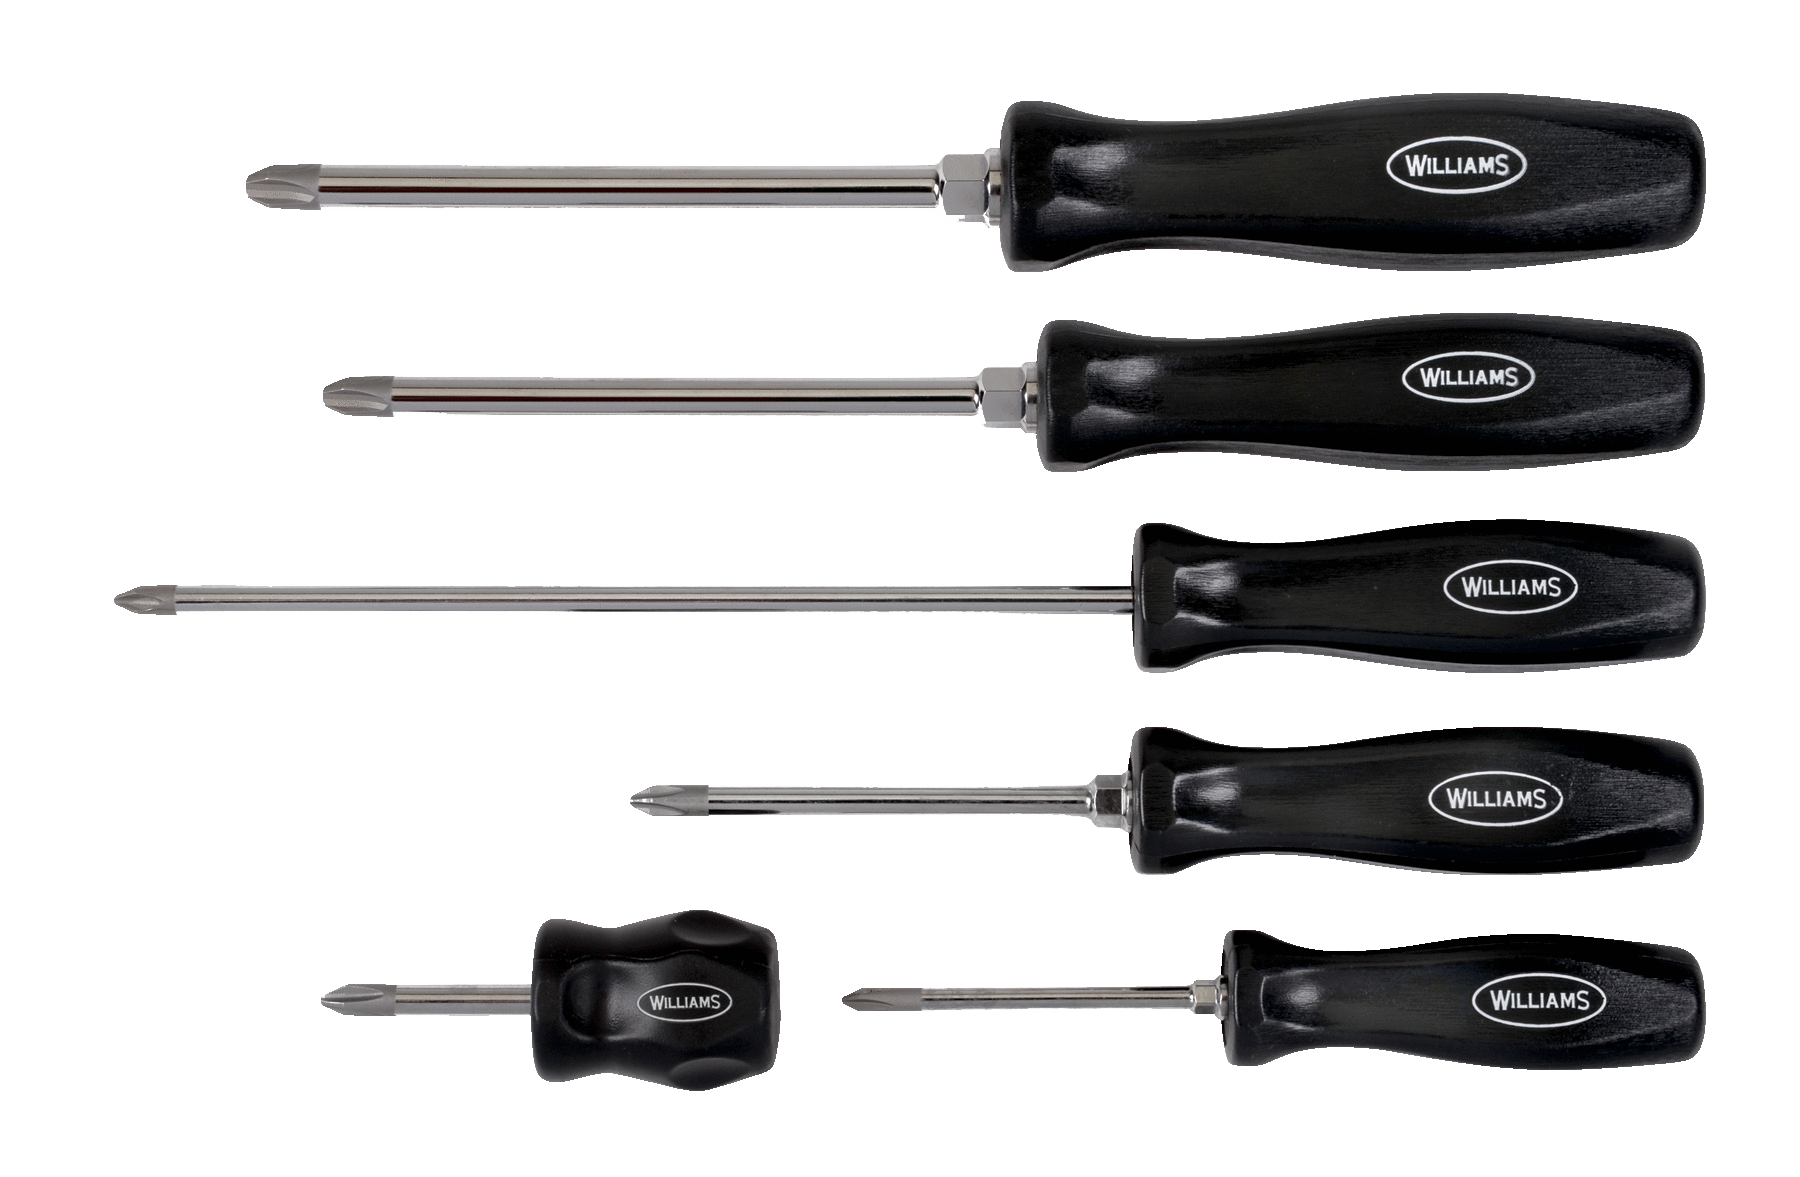screwdriver: (244, 91, 1725, 271), (106, 519, 1702, 677), (320, 310, 1705, 476), (625, 726, 1708, 874), (839, 923, 1705, 1069), (316, 905, 785, 1093)
